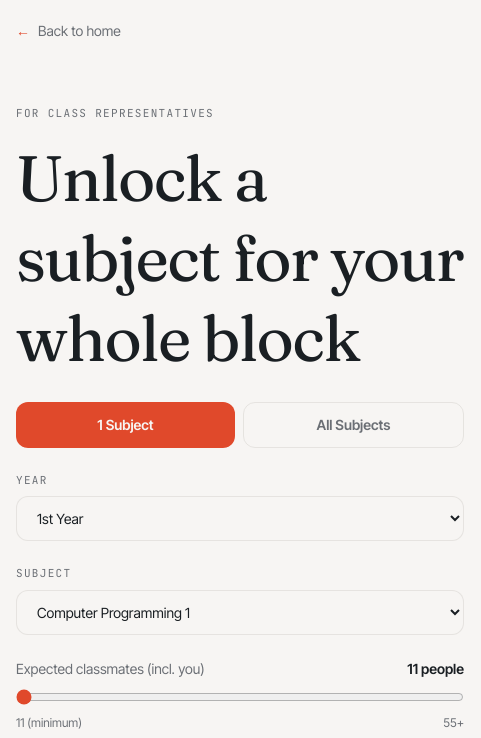
Test: ForBlocksCheckout › recomputes the total live as the seat slider moves
Set the slider to "20" at (112, 696), box [16,688,464,704]
(page scrolled)
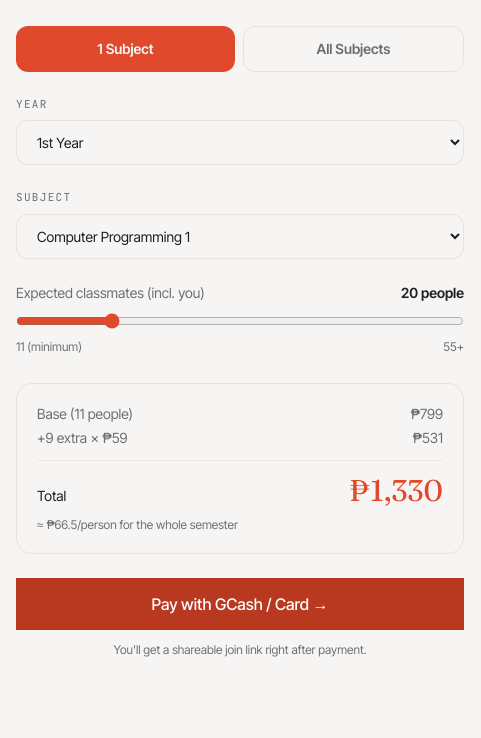
Expected: the text "₱1,330" is shown, [349,472,443,508]
